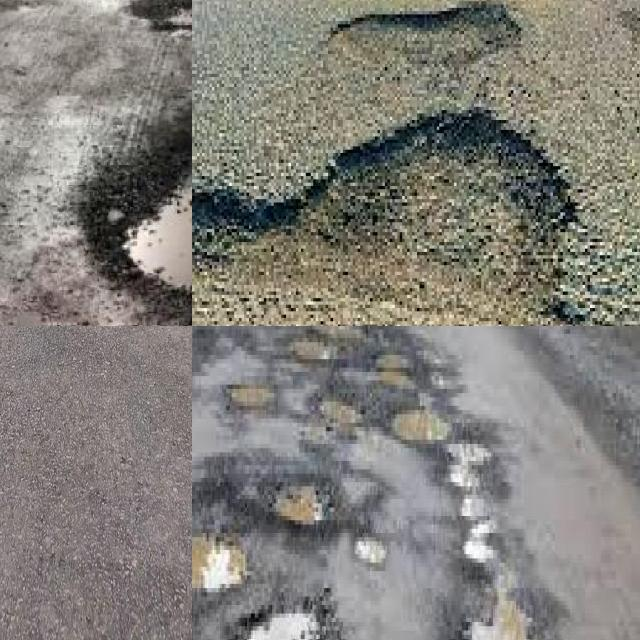Pothole: (192, 107, 575, 305), (331, 5, 518, 67), (121, 181, 192, 291), (449, 444, 495, 575), (338, 364, 433, 399), (309, 392, 383, 436), (192, 538, 246, 590), (472, 592, 526, 640), (391, 406, 451, 444), (247, 614, 318, 640), (308, 326, 393, 347), (275, 486, 322, 523), (228, 384, 274, 408), (355, 538, 386, 566), (294, 342, 331, 360), (376, 355, 408, 370)
